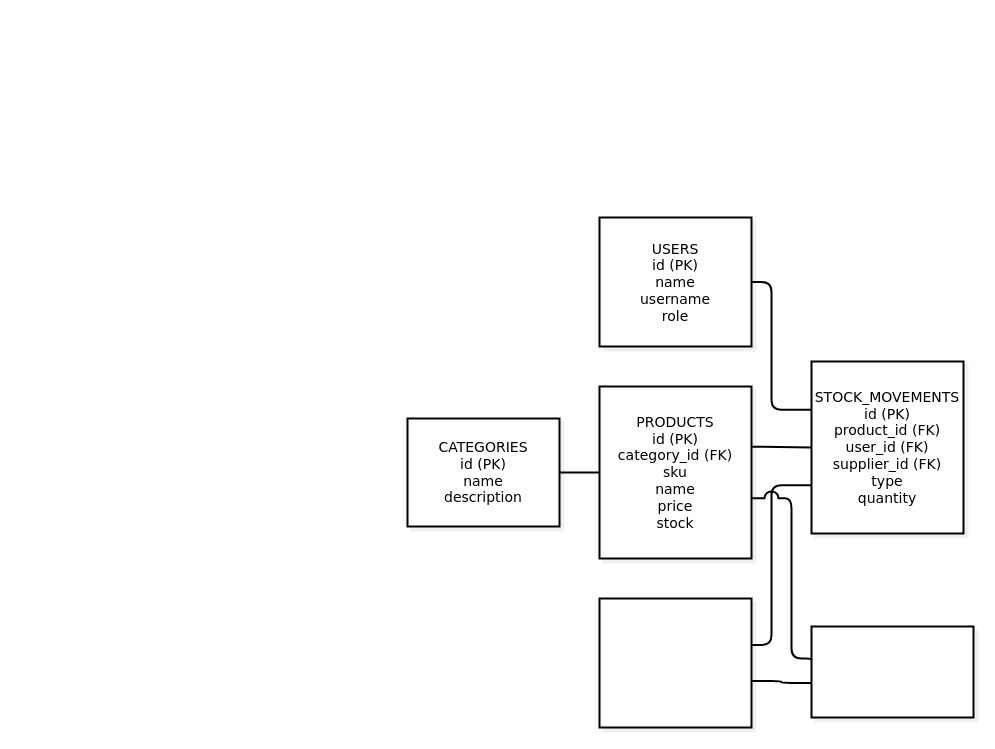
Some shapes in this 995 by 749 pixel diagram are drawn without their labels. The centre of each missing label's shape, as x and y in pixels:
"PRODUCT_SUPPLIERS product_id (PK, FK) supplier_id (PK, FK)" belongs at point 894,673.
"SUPPLIERS id (PK) name phone address" belongs at point 677,664.
